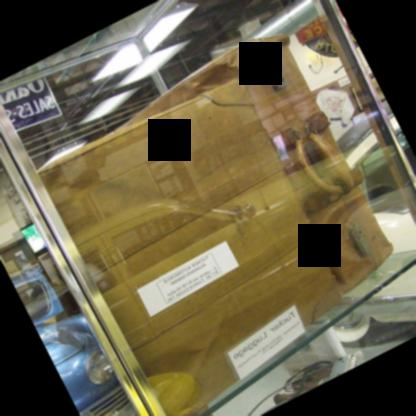suitcase: (39, 79, 349, 416), (134, 31, 366, 209), (303, 180, 393, 292)
